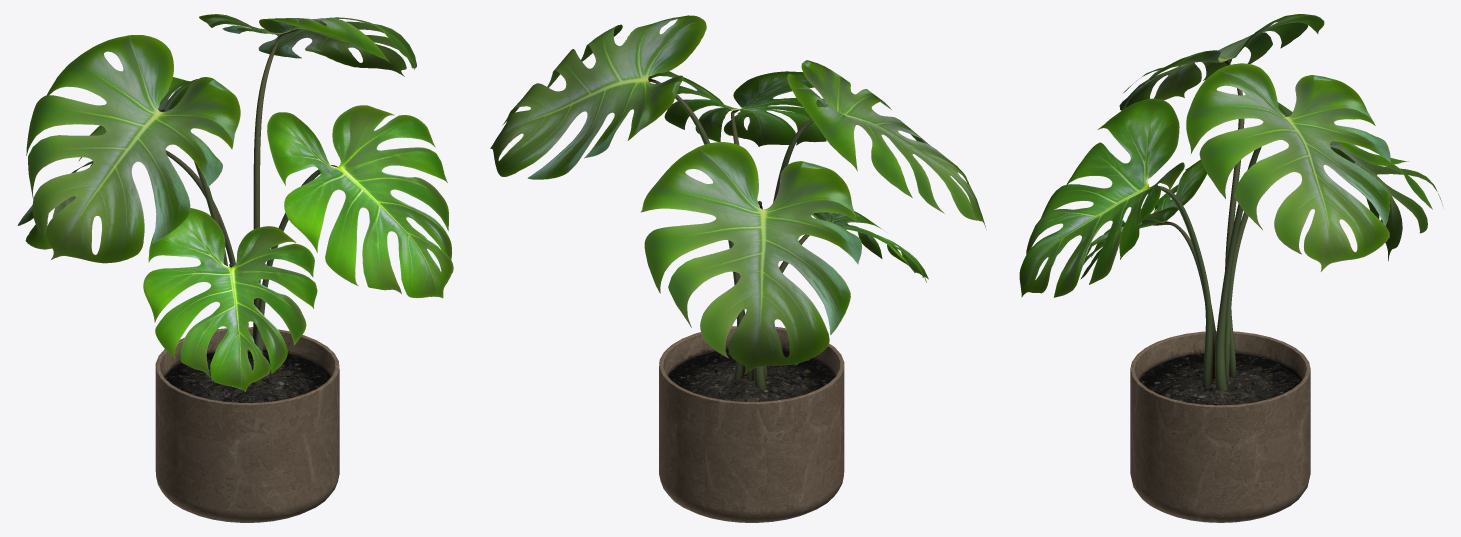
Rendered from monstera.gltf.
3 renders of one model, left to right at view 1: azimuth 30°, elevation 25°; view 2: azimuth 150°, elevation 25°; view 3: azimuth 270°, elevation 25°, orthographic. The views are drawn at different scales.
Parts seen in each view (by area): view 1: SM_MZRa_Monstera_B02; view 2: SM_MZRa_Monstera_B02; view 3: SM_MZRa_Monstera_B02.
Boxes of the visible parts, x1,y1,x2,y2 form: SM_MZRa_Monstera_B02: (17,14,453,522); SM_MZRa_Monstera_B02: (490,15,986,522); SM_MZRa_Monstera_B02: (1019,14,1443,522).
Size of the model in its own units: 1.55 by 1.58 by 1.37.
2 materials, 2 textured.
